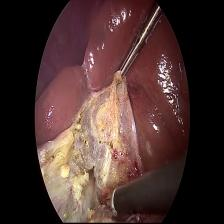Grasper: (111, 4, 164, 89)
Hook: (94, 186, 118, 221)
